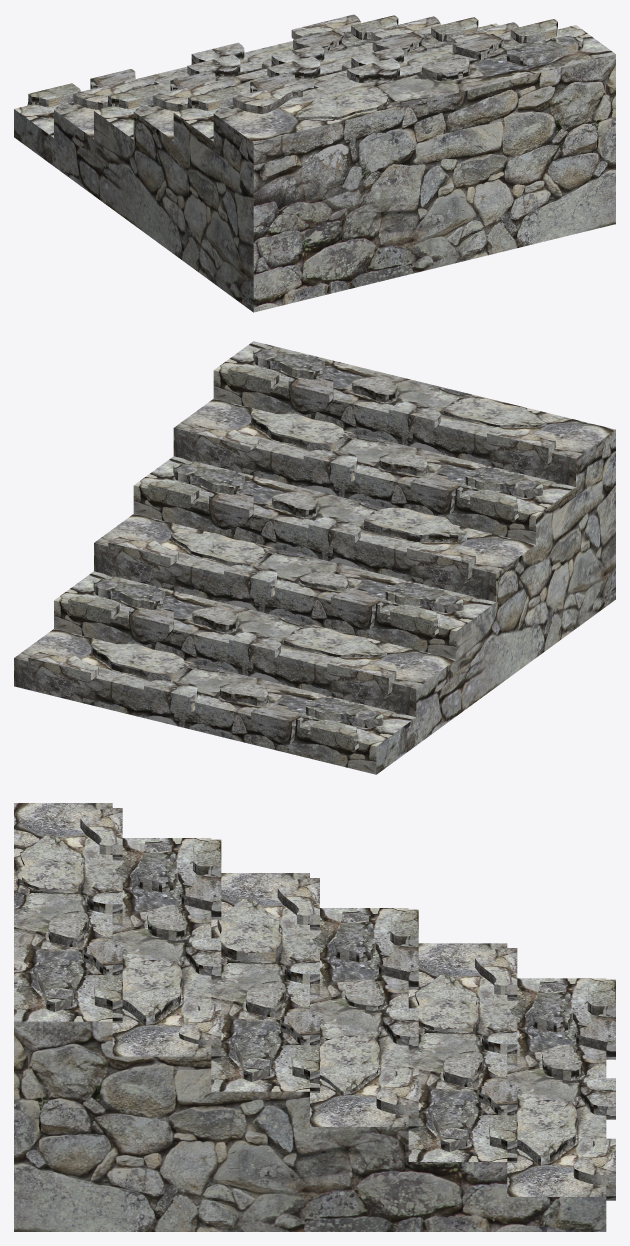
Rendered from floorSteps.fbx.
The picture shows the model from 3 angles, top to bottom: view 1: azimuth 30°, elevation 25°; view 2: azimuth 150°, elevation 25°; view 3: azimuth 270°, elevation 25°; orthographic projection. The views are drawn at different scales.
Visible parts, largest first — view 1: Stone wall; view 2: Stone wall; view 3: Stone wall.
Boxes of the visible parts, bbox=[...] form: Stone wall: bbox=[14, 14, 615, 312]; Stone wall: bbox=[14, 341, 615, 774]; Stone wall: bbox=[14, 803, 615, 1231].
Bounding box in the file's own units: 844 × 395 × 982.
